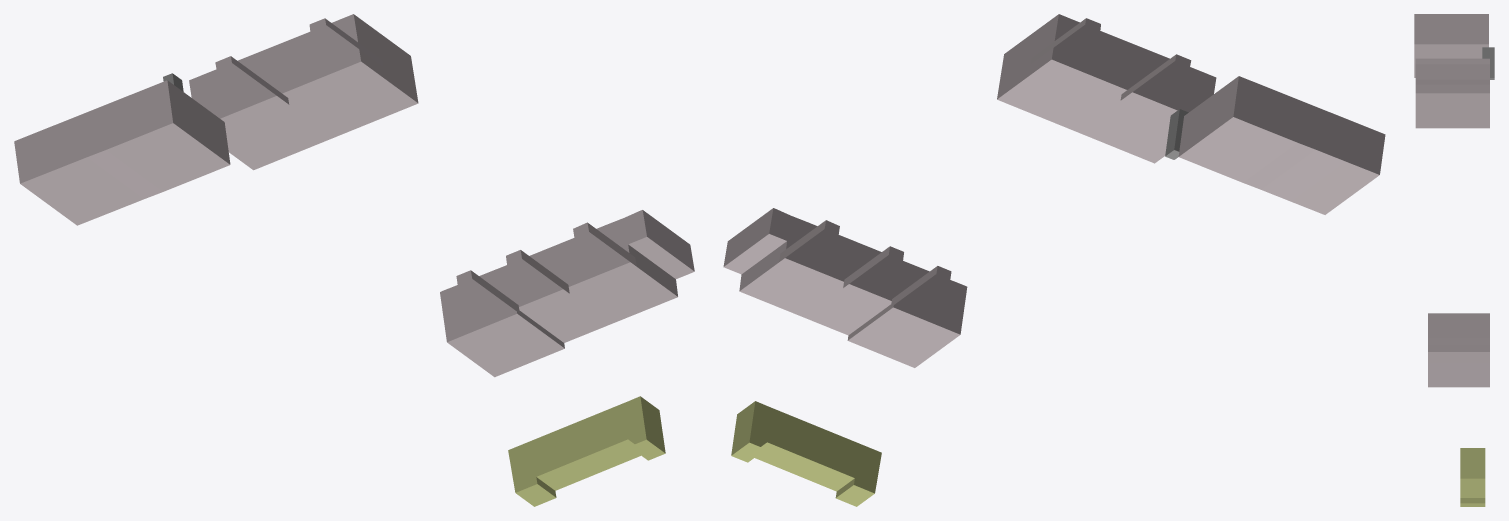
3 renders of one model, left to right at view 1: azimuth 30°, elevation 25°; view 2: azimuth 150°, elevation 25°; view 3: azimuth 270°, elevation 25°, orthographic. The views are drawn at different scales.
Parts seen in each view (by area): view 1: 0_1_2_0_3_2_0; view 2: 0_1_2_0_3_2_0; view 3: 0_1_2_0_3_2_0.
Boxes of the visible parts, left/top/right/bottom form: 0_1_2_0_3_2_0: left=14, top=14, right=694, bottom=506; 0_1_2_0_3_2_0: left=723, top=14, right=1385, bottom=506; 0_1_2_0_3_2_0: left=1414, top=14, right=1494, bottom=506.
Size of the model in its own units: 115 by 89.67 by 19.4.
